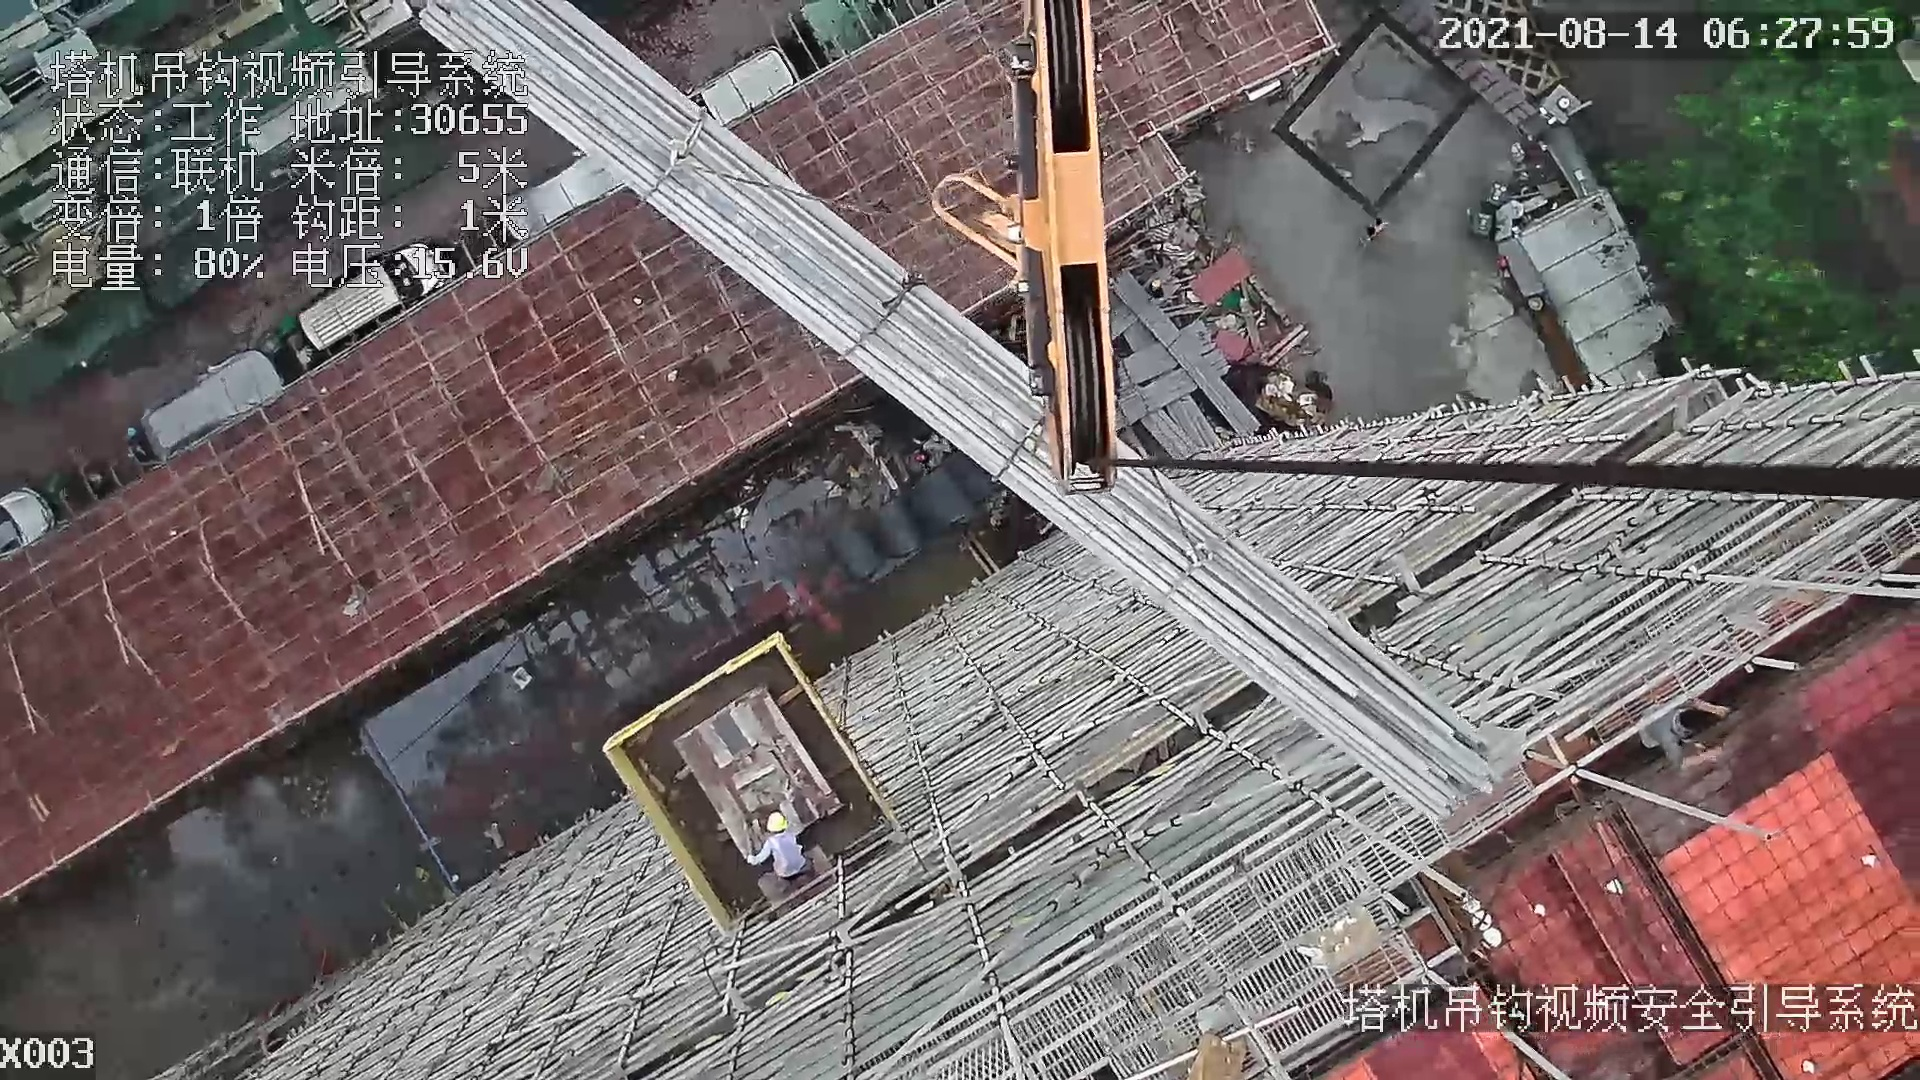helmet: (764, 813, 795, 839)
hook: (1006, 1, 1123, 496)
person: (740, 809, 822, 883)
